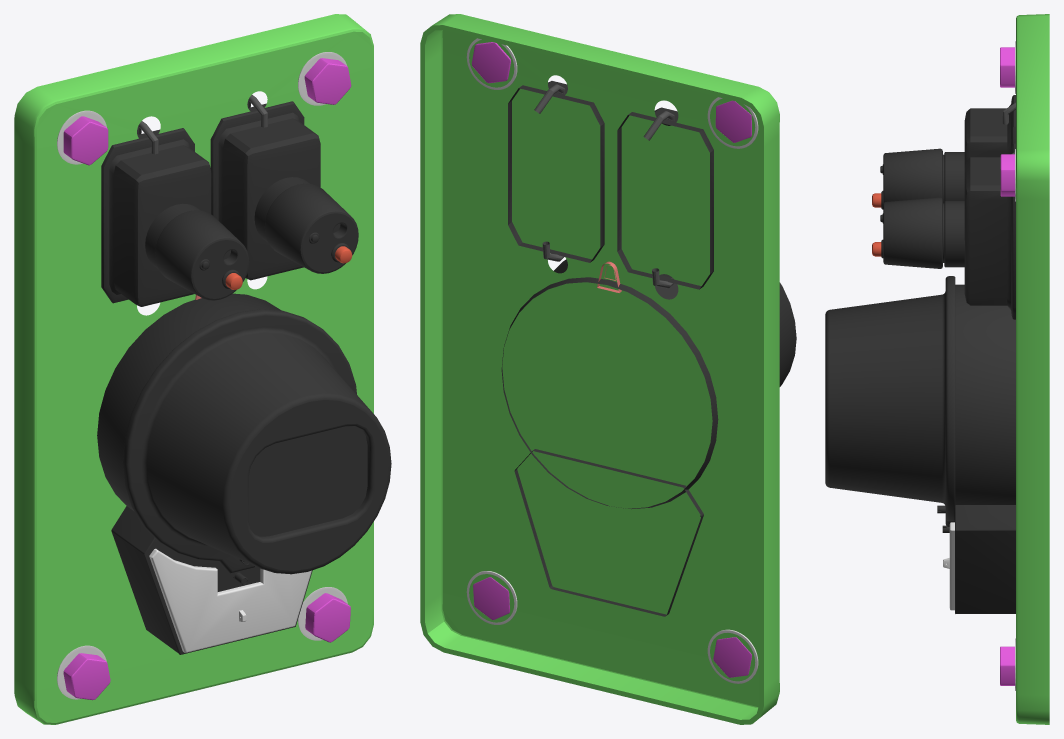
File: cOUNTERUV.fbx
3 views of the same model, side by side, from view 1: azimuth 30°, elevation 25°; view 2: azimuth 150°, elevation 25°; view 3: azimuth 270°, elevation 25° (orthographic). The views are drawn at different scales.
Parts seen in each view (by area): view 1: Cylinder.000, Cylinder.023, Cylinder.034, Cylinder.026, Cylinder.020, Cylinder.036, Cylinder.013, Cylinder.024, Cylinder.006, Cylinder.005, Cylinder.010, Cylinder.007 (+6 smaller); view 2: Cylinder.000, Cylinder.023, Cylinder.034, Cylinder.026, Cylinder.024, Cylinder.007, Cylinder.006, Cylinder.010, Cylinder.005; view 3: Cylinder.023, Cylinder.000, Cylinder.026, Cylinder.024, Cylinder.013, Cylinder.036, Cylinder.034, Cylinder.027, Cylinder.035, Cylinder.007, Cylinder.005, Cylinder.010 (+1 smaller).
Boxes of the visible parts, x1,y1,x2,y2 form: Cylinder.000: (14, 14, 373, 724); Cylinder.023: (97, 293, 391, 574); Cylinder.034: (101, 128, 211, 306); Cylinder.026: (210, 101, 320, 280); Cylinder.020: (149, 548, 311, 652); Cylinder.036: (155, 210, 249, 300); Cylinder.013: (264, 183, 358, 273); Cylinder.024: (111, 506, 312, 654); Cylinder.006: (63, 653, 110, 700); Cylinder.005: (63, 116, 108, 165); Cylinder.010: (305, 593, 350, 642); Cylinder.007: (304, 58, 351, 104); Cylinder.000: (420, 14, 779, 724); Cylinder.023: (501, 259, 796, 509); Cylinder.034: (617, 107, 713, 289); Cylinder.026: (508, 81, 604, 262); Cylinder.024: (514, 449, 703, 616); Cylinder.007: (471, 42, 510, 83); Cylinder.006: (713, 637, 751, 677); Cylinder.010: (473, 577, 509, 619); Cylinder.005: (715, 100, 751, 142); Cylinder.023: (825, 276, 1015, 526); Cylinder.000: (1016, 14, 1049, 724); Cylinder.026: (964, 143, 1015, 319); Cylinder.024: (955, 505, 1015, 613); Cylinder.013: (883, 197, 944, 268); Cylinder.036: (883, 148, 944, 203); Cylinder.034: (964, 95, 1015, 168); Cylinder.027: (944, 201, 964, 267); Cylinder.035: (944, 152, 964, 201); Cylinder.007: (1000, 154, 1014, 196); Cylinder.005: (1000, 47, 1014, 87); Cylinder.010: (1000, 646, 1014, 685).
Size of the model in its own units: 361 by 629 by 223.
